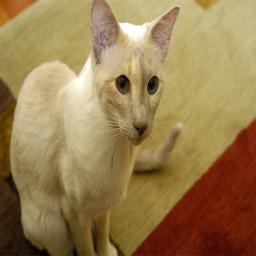catnose: (133, 121, 148, 136)
